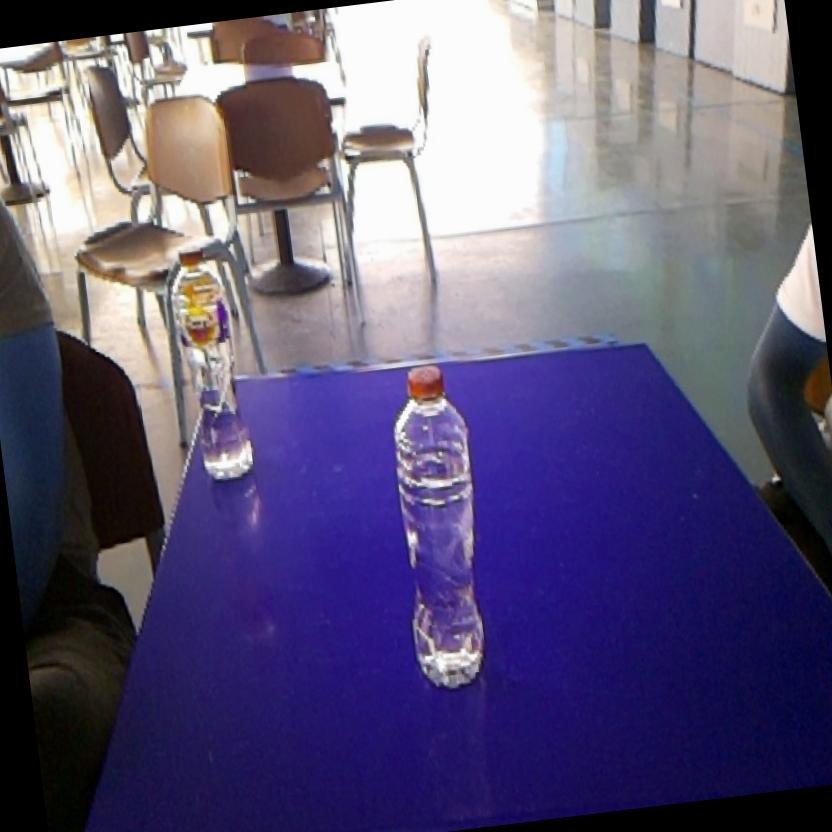good: (155, 234, 264, 497)
no_label: (369, 354, 507, 700)
